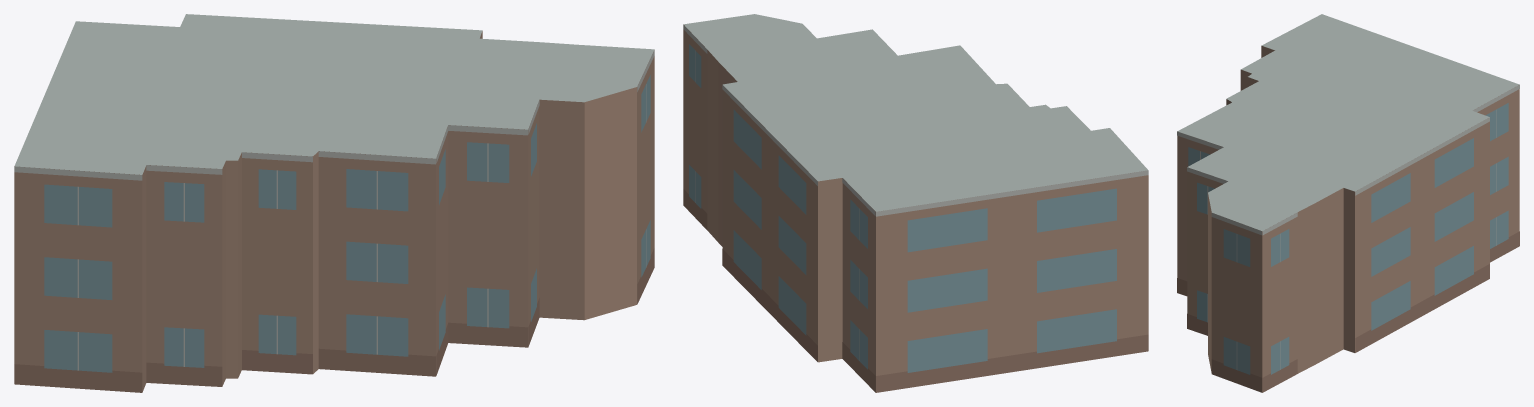
Rendered from survey-upis-32469692.glb.
3 views of the same model, side by side, from view 1: azimuth 30°, elevation 25°; view 2: azimuth 150°, elevation 25°; view 3: azimuth 270°, elevation 25° (orthographic). The views are drawn at different scales.
Visible parts, largest first — view 1: survey-upis-32469692.tmp; view 2: survey-upis-32469692.tmp; view 3: survey-upis-32469692.tmp.
Boxes of the visible parts, box(x1,y1,x2,y2) form: survey-upis-32469692.tmp: box(14, 14, 654, 392); survey-upis-32469692.tmp: box(683, 14, 1148, 392); survey-upis-32469692.tmp: box(1177, 14, 1519, 392).
Bounding box in the file's own units: 26.38 × 9.15 × 17.58.
